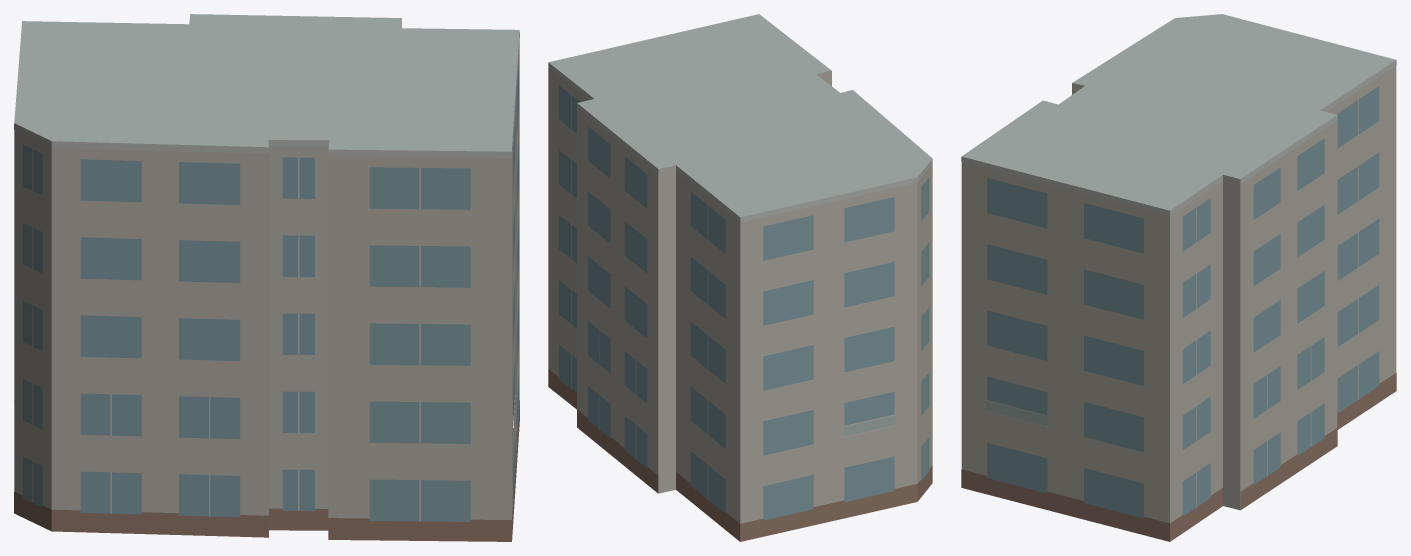
Rendered from survey-upis-32777496.glb.
3 renders of one model, left to right at view 1: azimuth 30°, elevation 25°; view 2: azimuth 150°, elevation 25°; view 3: azimuth 270°, elevation 25°, orthographic. The views are drawn at different scales.
Parts seen in each view (by area): view 1: survey-upis-32777496.tmp; view 2: survey-upis-32777496.tmp; view 3: survey-upis-32777496.tmp.
Part boxes in pixels (<box>): survey-upis-32777496.tmp: <box>14,14,519,541</box>; survey-upis-32777496.tmp: <box>548,14,932,541</box>; survey-upis-32777496.tmp: <box>961,14,1396,541</box>.
Size of the model in its own units: 18.85 by 14.8 by 17.62.
